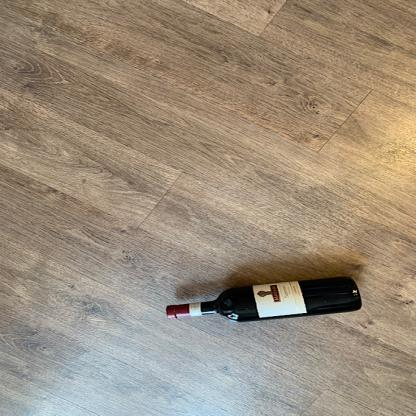trash: (163, 274, 372, 324)
